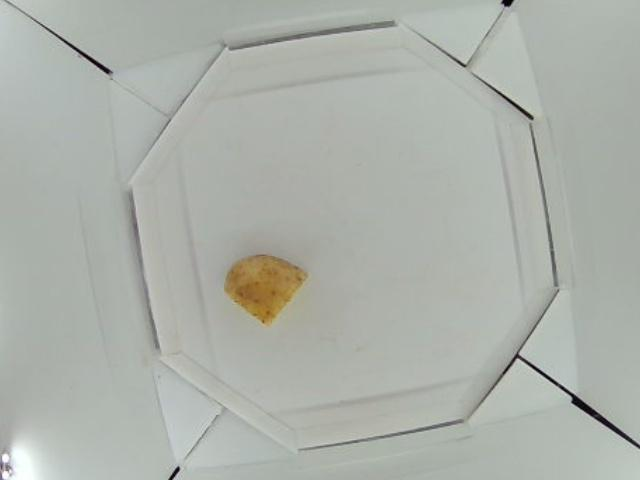Potato: (226, 252, 307, 323)
